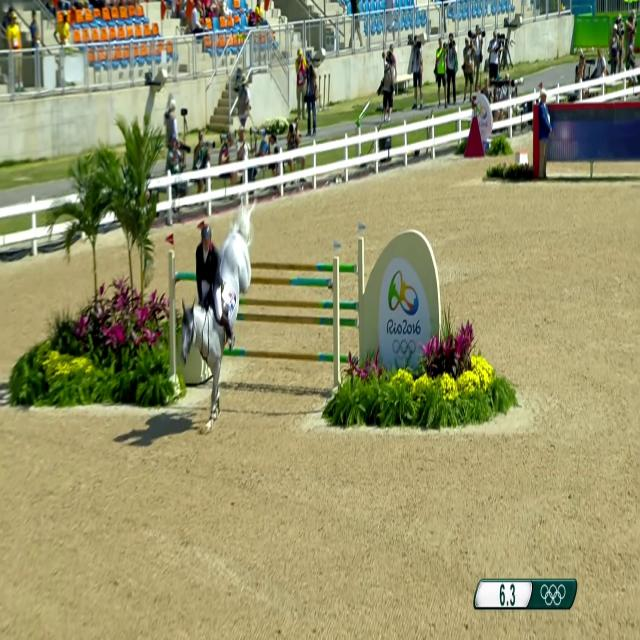Horse Jumping: (168, 176, 274, 434)
